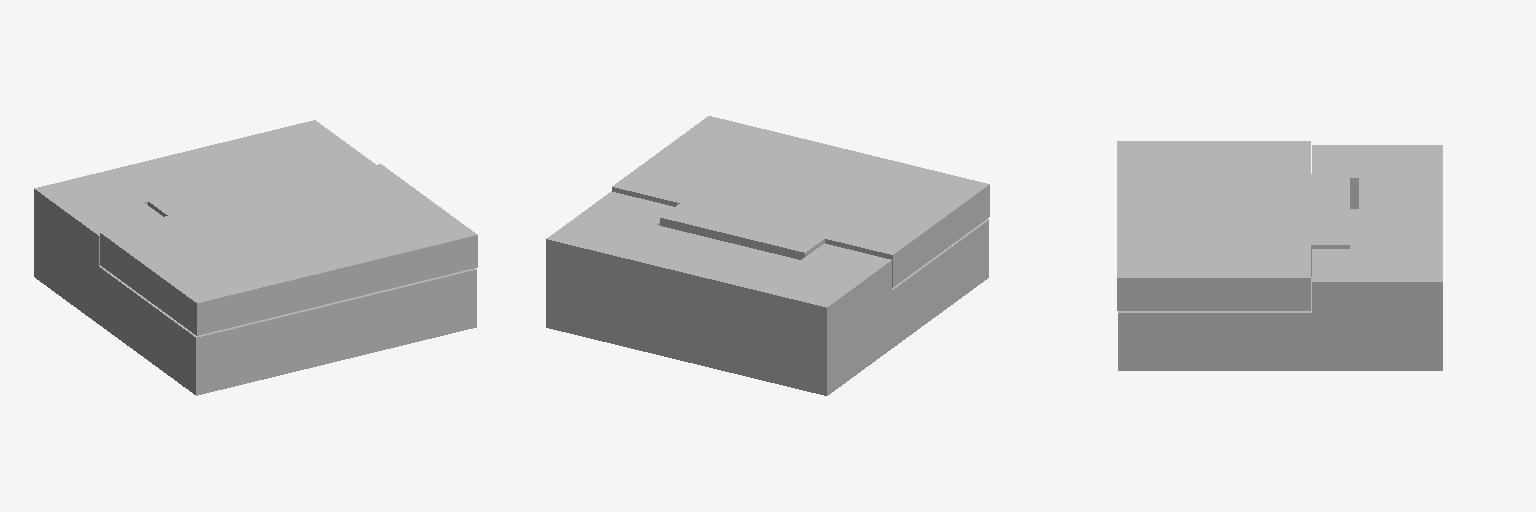
File: PortableComputerTerminalClosed.obj
3 renders of one model, left to right at view 1: azimuth 30°, elevation 25°; view 2: azimuth 150°, elevation 25°; view 3: azimuth 270°, elevation 25°, orthographic.
Parts seen in each view (by area): view 1: polySurface135; view 2: polySurface135; view 3: polySurface135.
Part boxes in pixels (x1,y1,x2,y2): polySurface135: (34, 120, 477, 395); polySurface135: (546, 116, 989, 395); polySurface135: (1117, 141, 1442, 370).
Bounding box in the file's own units: 0.5202 × 0.1643 × 0.5221.